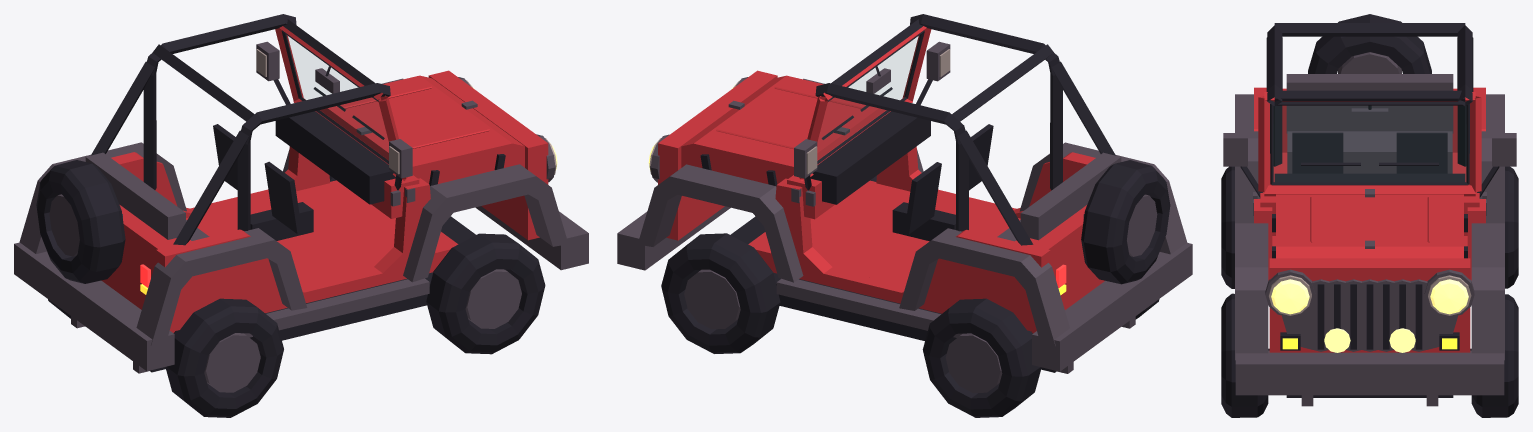
File: veh.jeep-red.lod1.glb
3 views of the same model, side by side, from view 1: azimuth 30°, elevation 25°; view 2: azimuth 150°, elevation 25°; view 3: azimuth 270°, elevation 25° (orthographic).
Visible parts, largest first — view 1: body, wheelFR, wheelRR; view 2: body, wheelFL, wheelRL; view 3: body, lightsFront, wheelFR, wheelFL, wheelRR, wheelRL.
Boxes of the visible parts, x1,y1,x2,y2 form: body: (14, 14, 588, 373); wheelFR: (426, 233, 545, 354); wheelRR: (165, 298, 283, 417); body: (617, 14, 1192, 373); wheelFL: (661, 233, 780, 353); wheelRL: (922, 298, 1041, 417); body: (1223, 14, 1516, 406); lightsFront: (1265, 269, 1474, 352); wheelFR: (1221, 293, 1268, 417); wheelFL: (1471, 294, 1518, 417); wheelRR: (1221, 166, 1234, 288); wheelRL: (1505, 166, 1518, 288).
Bounding box in the file's own units: 4.13 × 2.39 × 2.28.
